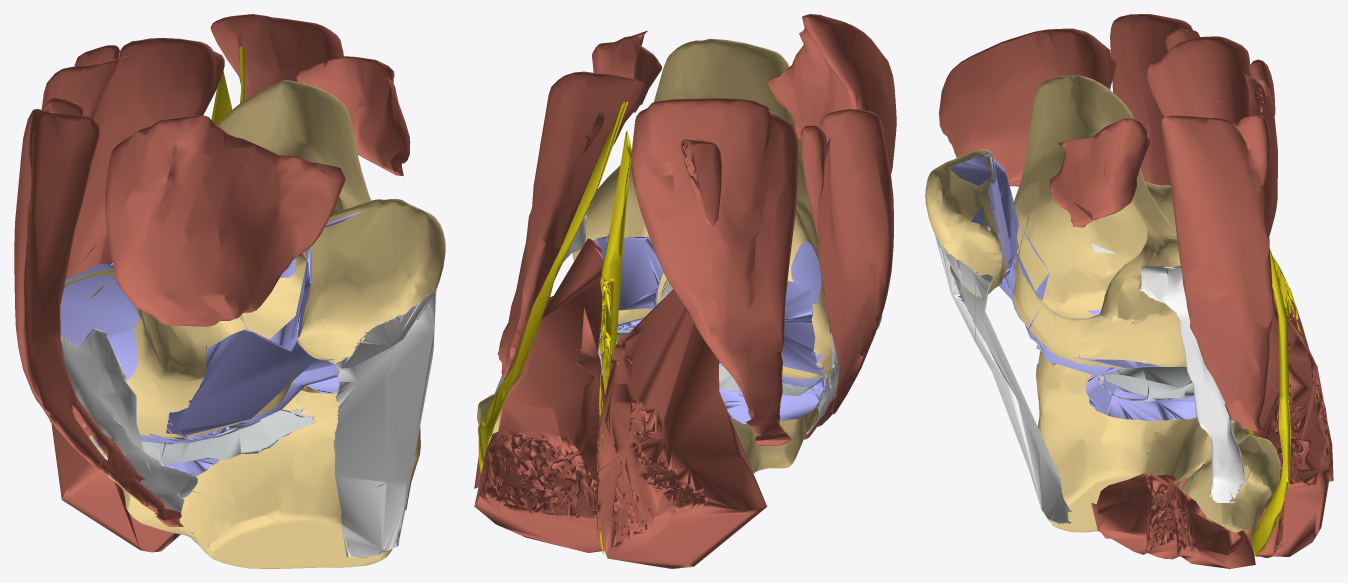
The model's file is knee.glb.
The picture shows the model from 3 angles, left to right: view 1: azimuth 30°, elevation 25°; view 2: azimuth 150°, elevation 25°; view 3: azimuth 270°, elevation 25°; orthographic projection. The views are drawn at different scales.
Parts seen in each view (by area): view 1: thigh_muscles, tibia, femur, patellar_tendon, knee_cartilage, patella, collateral_ligaments, calf_muscles, menisci, knee_nerves; view 2: thigh_muscles, calf_muscles, femur, knee_cartilage, knee_nerves, tibia, collateral_ligaments, menisci; view 3: thigh_muscles, femur, calf_muscles, tibia, knee_cartilage, patellar_tendon, collateral_ligaments, patella, fibula, knee_nerves, menisci.
Part boxes in pixels (x1,y1,x2,y2): thigh_muscles: (14,14,410,527); tibia: (89,385,420,568); femur: (63,80,371,437); patellar_tendon: (332,287,437,557); knee_cartilage: (60,210,410,476); patella: (296,199,445,369); collateral_ligaments: (60,328,198,512); calf_muscles: (51,423,410,552); menisci: (141,407,315,463); knee_nerves: (211,47,245,125); thigh_muscles: (497,14,896,445); calf_muscles: (474,238,767,568); femur: (572,38,832,379); knee_cartilage: (594,235,825,423); knee_nerves: (478,102,635,554); tibia: (719,361,820,473); collateral_ligaments: (494,203,881,433); menisci: (599,330,829,396); thigh_muscles: (939,14,1277,432); femur: (1012,75,1186,368); calf_muscles: (1091,287,1333,568); tibia: (1036,351,1248,532); knee_cartilage: (944,154,1237,422); patellar_tendon: (935,234,1072,524); collateral_ligaments: (1091,244,1245,503); patella: (925,149,1006,297); fibula: (1181,435,1280,533); knee_nerves: (1209,114,1330,556); menisci: (1036,344,1193,401).
Size of the model in its own units: 0.1092 by 0.1182 by 0.1106.
